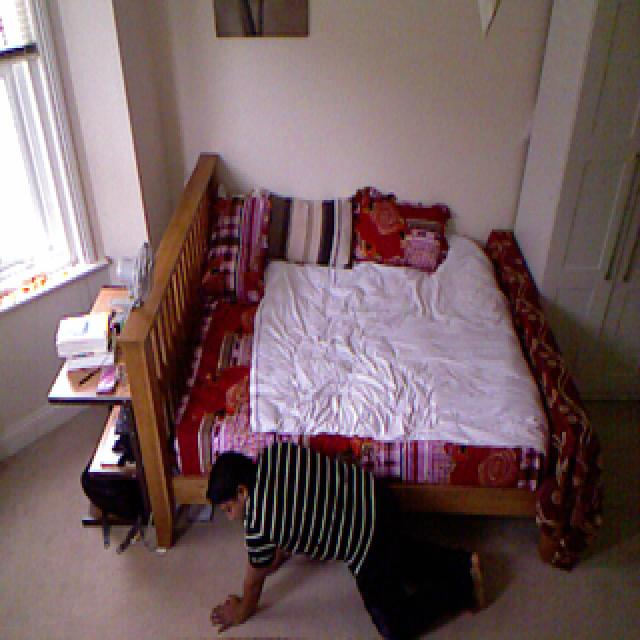crawling: (196, 434, 492, 640)
